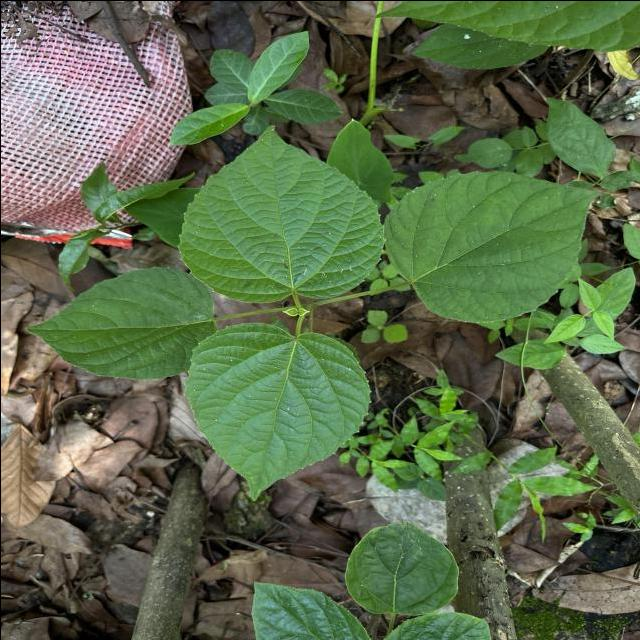Clerodendrum infortunatum: (174, 123, 386, 304), (181, 319, 372, 501), (382, 168, 600, 324), (23, 264, 218, 379)
